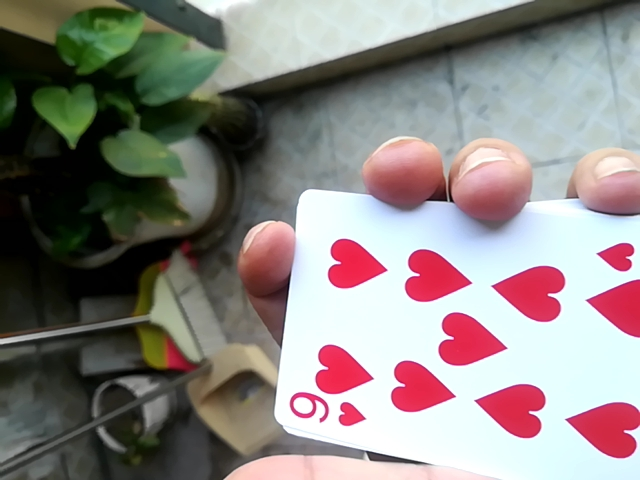hx 9: (278, 158, 640, 479)
